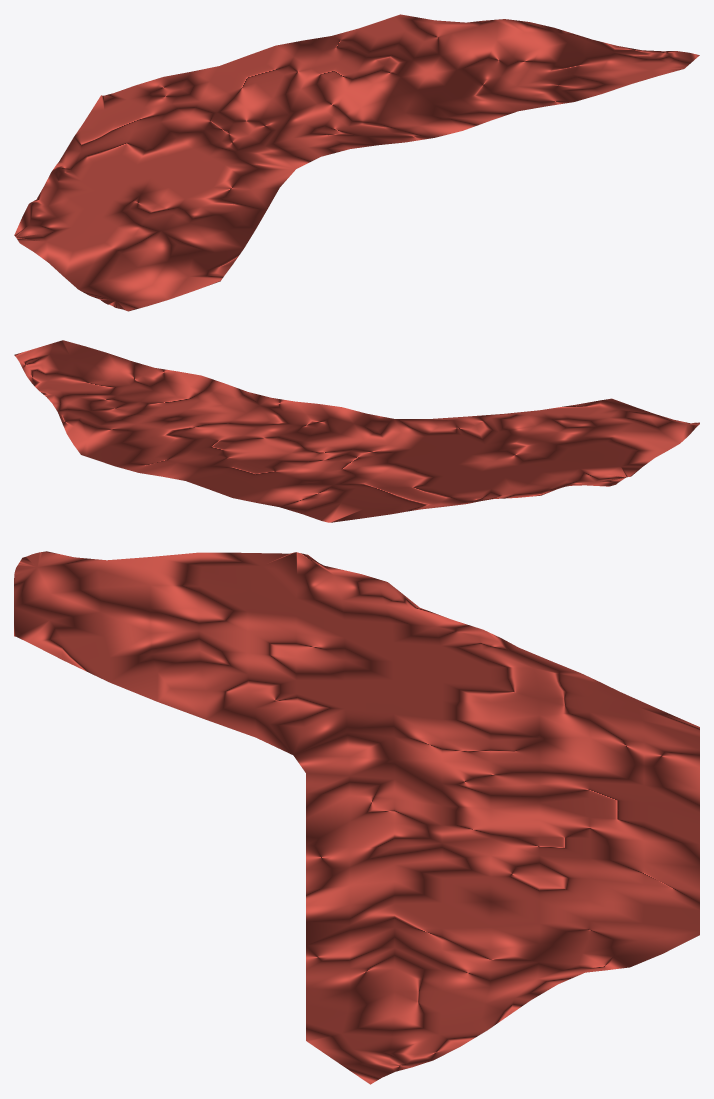
File: planter_soil_corner_b.glb
The picture shows the model from 3 angles, top to bottom: view 1: azimuth 30°, elevation 25°; view 2: azimuth 150°, elevation 25°; view 3: azimuth 270°, elevation 25°; orthographic projection. The views are drawn at different scales.
Size of the model in its own units: 12.66 by 0.2959 by 7.05.
